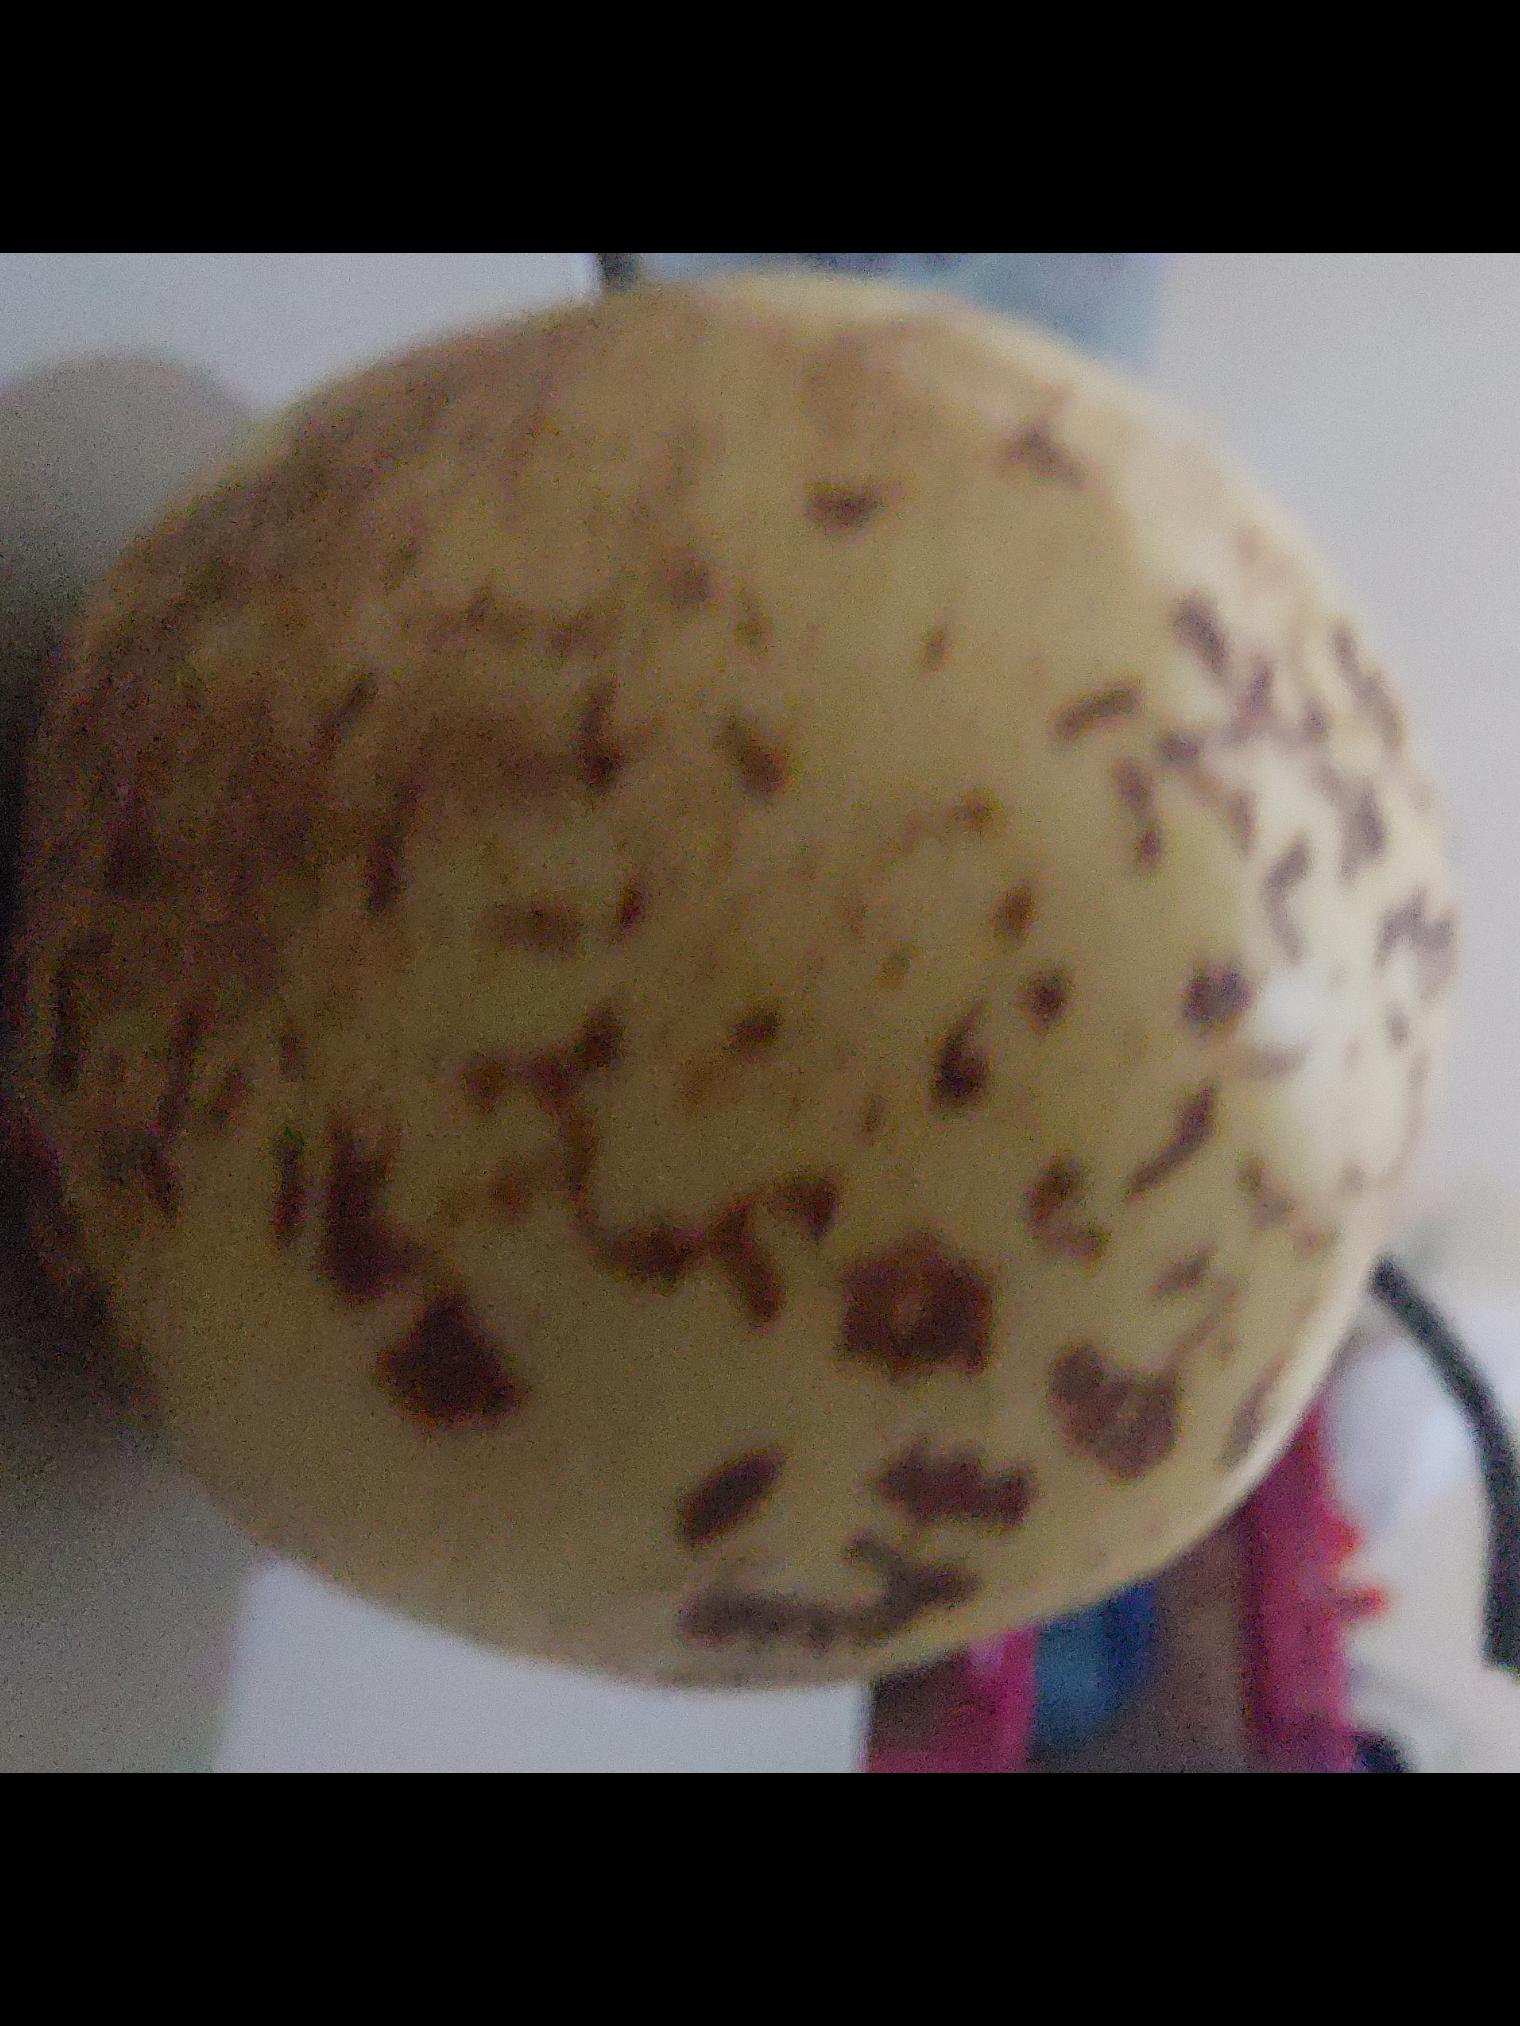Bad Pear: (45, 303, 1453, 1625)
